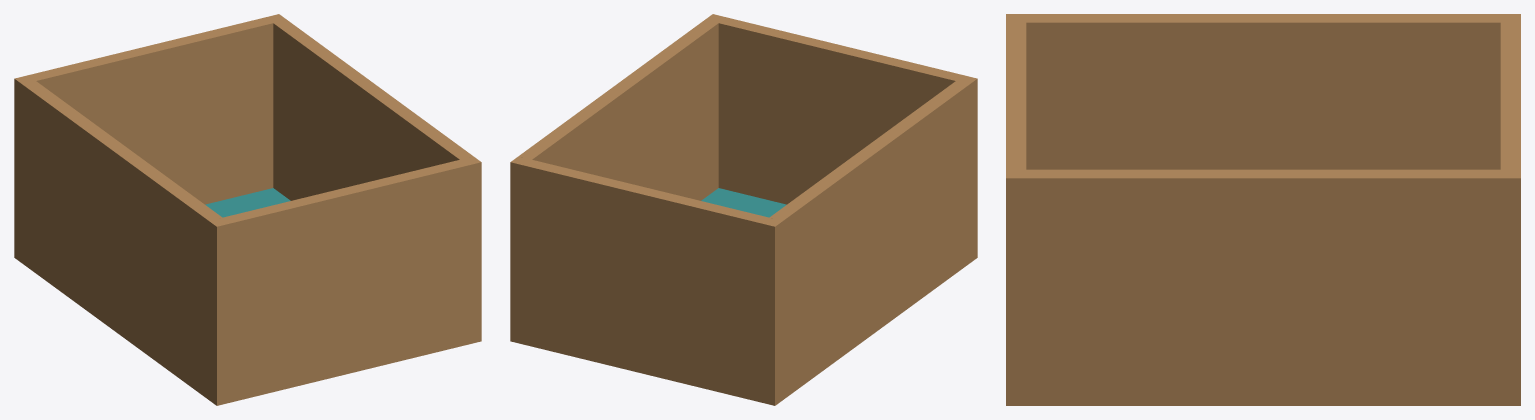
The model's file is tabletop-game-components-deck-box-b3ff3388__20889.glb.
3 renders of one model, left to right at view 1: azimuth 30°, elevation 25°; view 2: azimuth 150°, elevation 25°; view 3: azimuth 270°, elevation 25°, orthographic. The views are drawn at different scales.
Parts seen in each view (by area): view 1: deck-box; view 2: deck-box; view 3: deck-box.
Boxes of the visible parts, <box> form: deck-box: <box>14,14,481,405</box>; deck-box: <box>510,14,977,405</box>; deck-box: <box>1006,14,1520,405</box>.
Bounding box in the file's own units: 0.077 × 0.0498 × 0.102.
